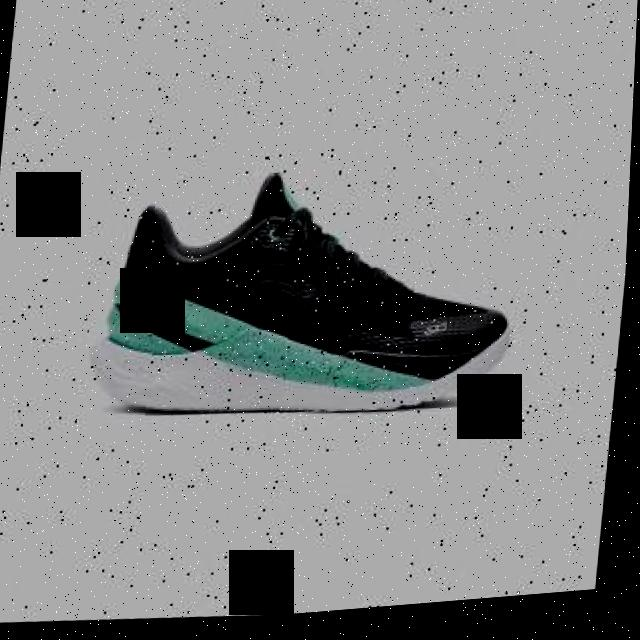shoe: (82, 153, 531, 443)
